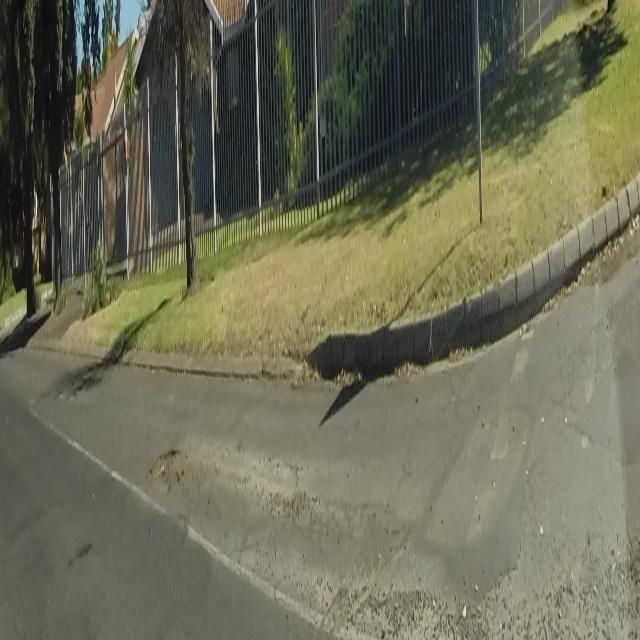pothole: (146, 448, 184, 476)
